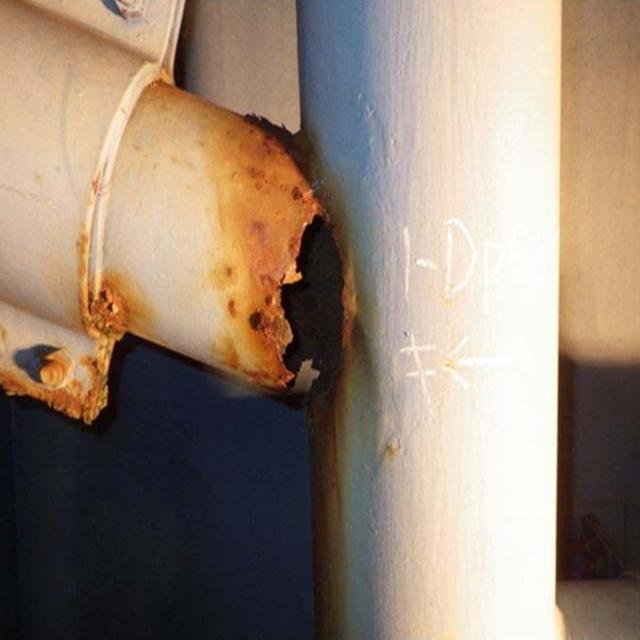corrosion: (23, 44, 390, 453)
